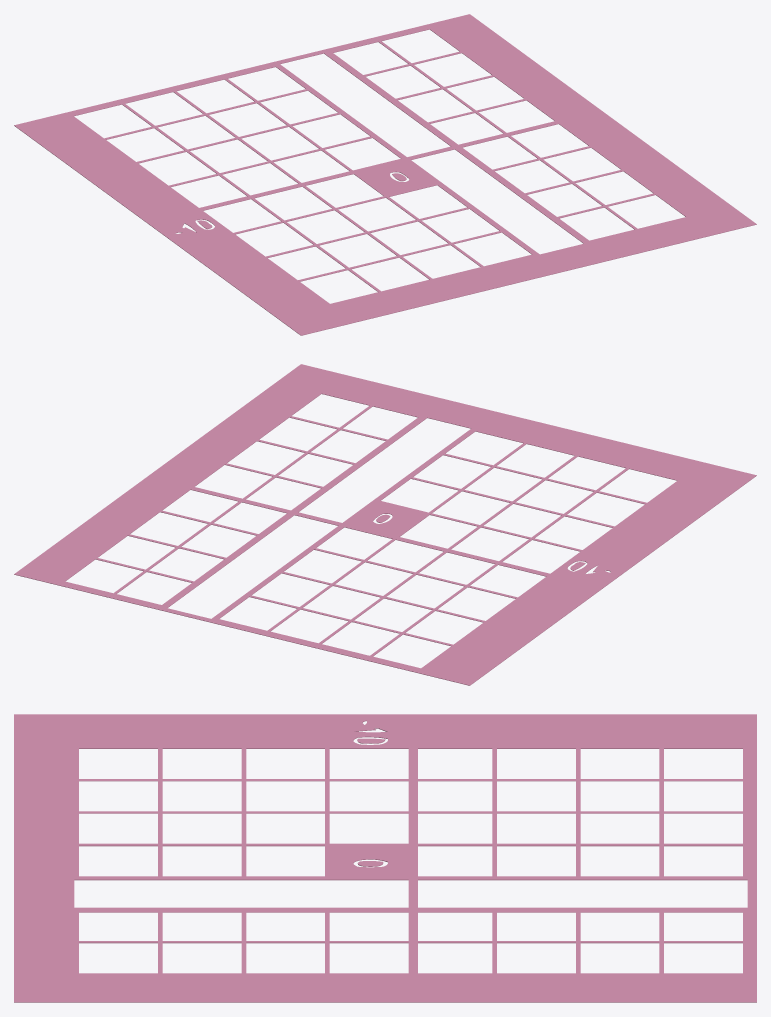
3 renders of one model, top to bottom at view 1: azimuth 30°, elevation 25°; view 2: azimuth 150°, elevation 25°; view 3: azimuth 270°, elevation 25°, orthographic. The views are drawn at different scales.
Visible parts, largest first — view 1: Mesh_Mesh_head_geo.001_lambert2SG.001; view 2: Mesh_Mesh_head_geo.001_lambert2SG.001; view 3: Mesh_Mesh_head_geo.001_lambert2SG.001.
Boxes of the visible parts, x1=… form: Mesh_Mesh_head_geo.001_lambert2SG.001: x1=14, y1=14, x2=756, y2=335; Mesh_Mesh_head_geo.001_lambert2SG.001: x1=14, y1=364, x2=756, y2=685; Mesh_Mesh_head_geo.001_lambert2SG.001: x1=14, y1=714, x2=756, y2=1002.
Bounding box in the file's own units: 11 × 0.01 × 12.
